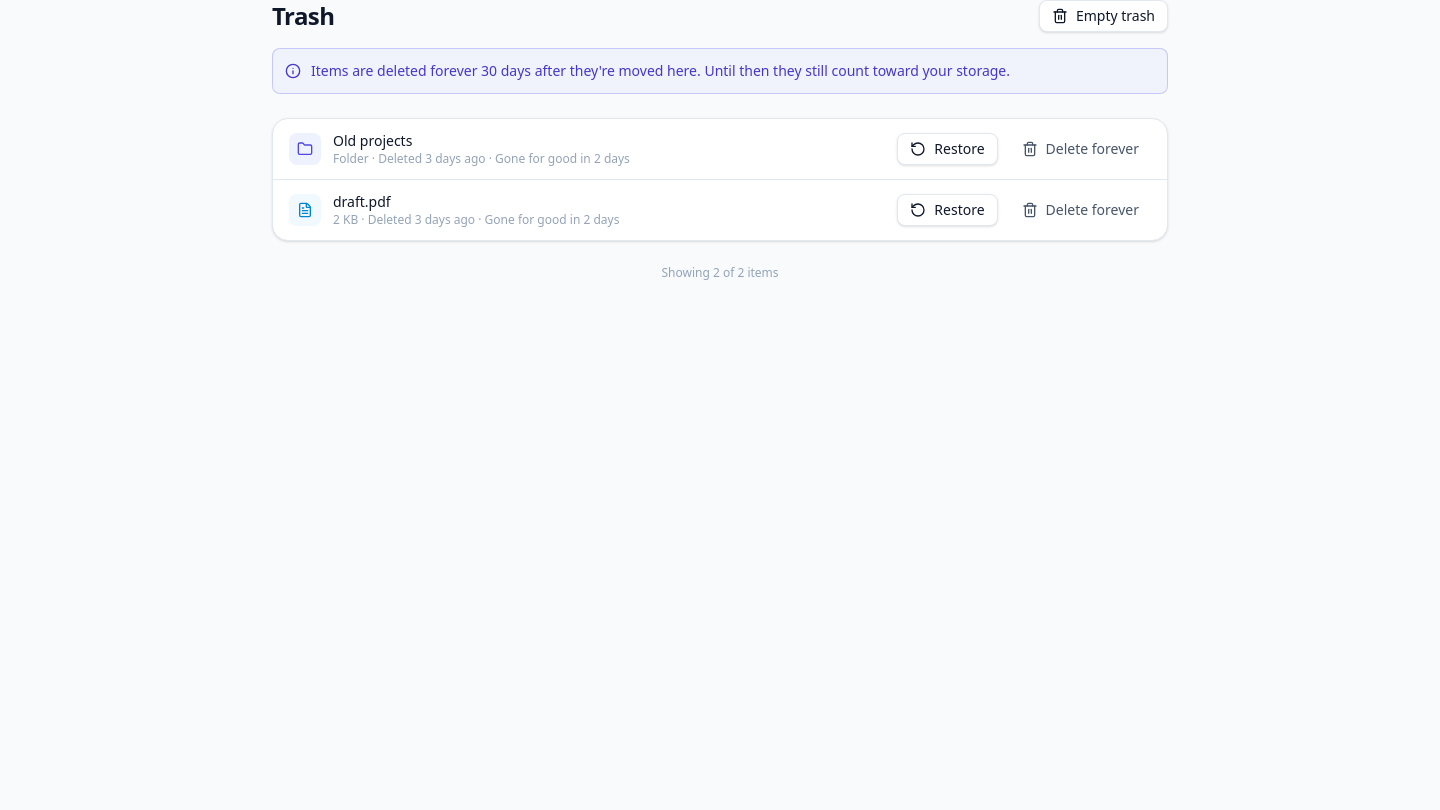
Scenario: Trash page › asks before deleting forever, then deletes
The width and height of the screenshot is (1440, 810).
Expected: the text "draft.pdf" is shown, [333, 192, 391, 211]
Click the button with aria-label "Delete draft.pdf forever": point(1080, 210) [1010, 194, 1151, 226]
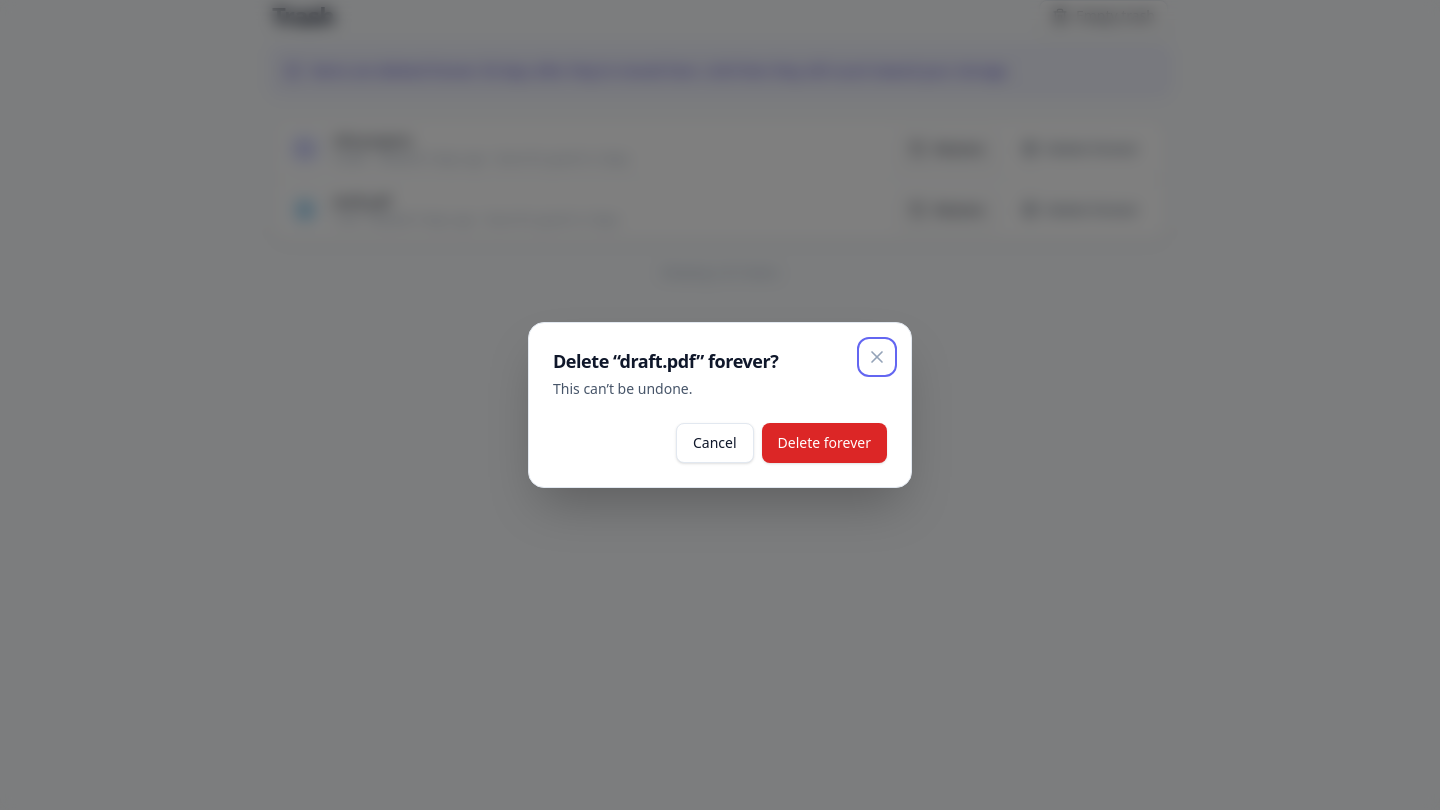
Click the button "Delete forever": point(824, 443) [762, 423, 887, 463]
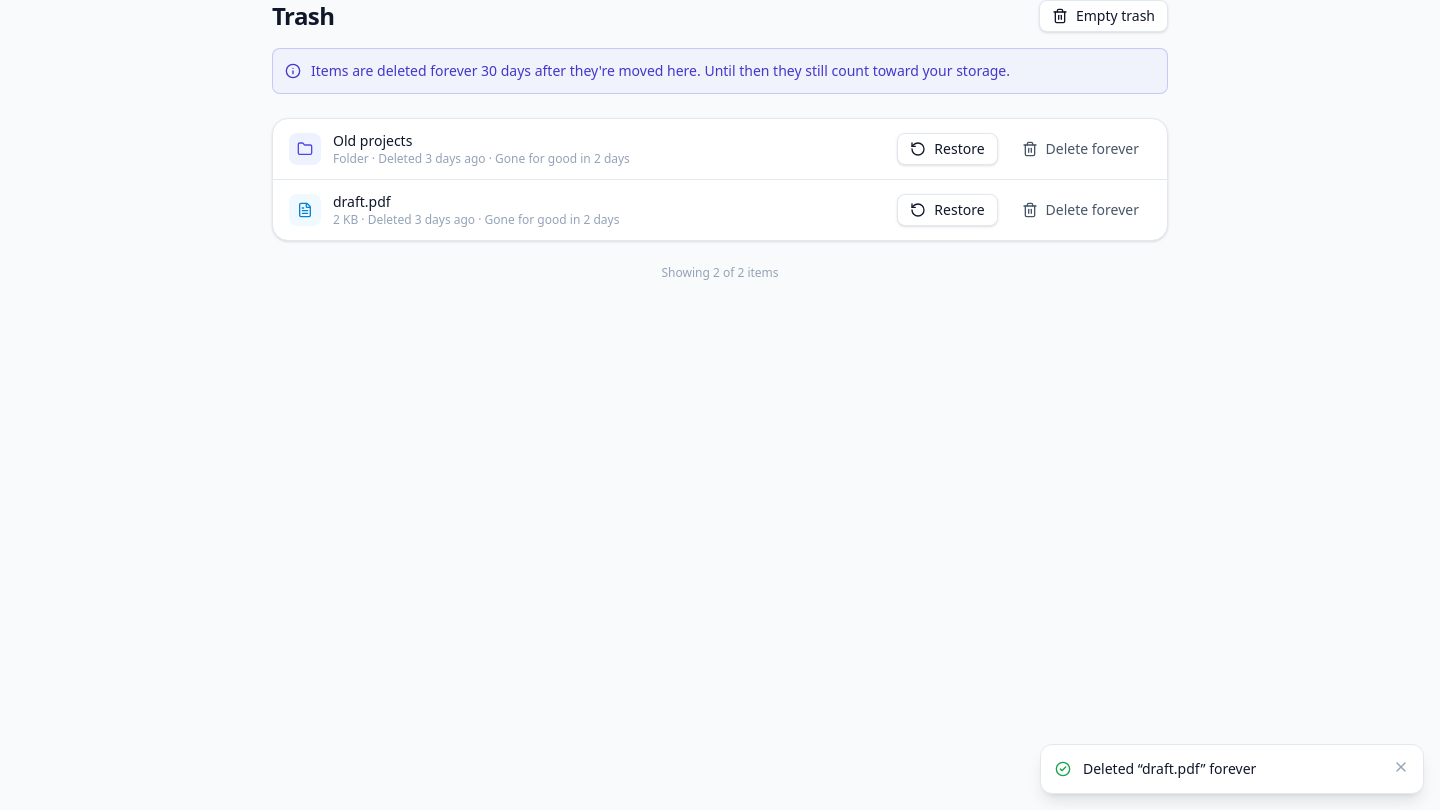
Expected: the text "Deleted “draft.pdf” forever" is shown, [1083, 759, 1256, 778]
